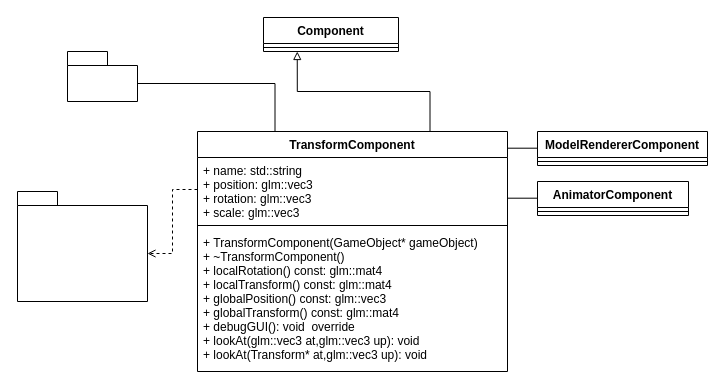
Image size: 725x392. Some labels were removed from this diagram. Each missing label, with the centre of its shape:
IMGui: [102,76]
OpenGL Mathematics: [82,246]
